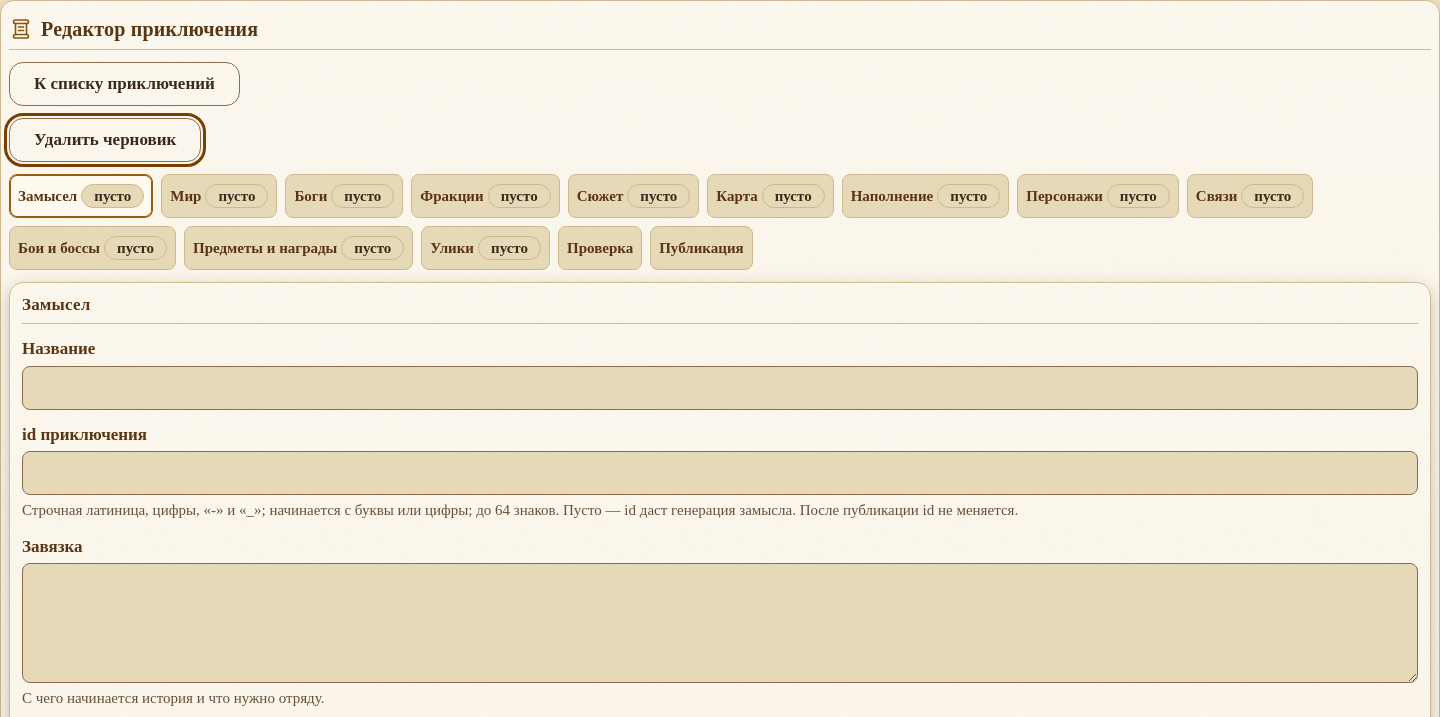
удаление черновика › «Отмена» в вопросе «Удалить черновик?» возвращает фокус на «Удалить черновик»
This screenshot has width=1440, height=717.
Step 1. Click the button "Удалить черновик" → [105, 140], box top-left (9, 118), bottom-right (201, 162)
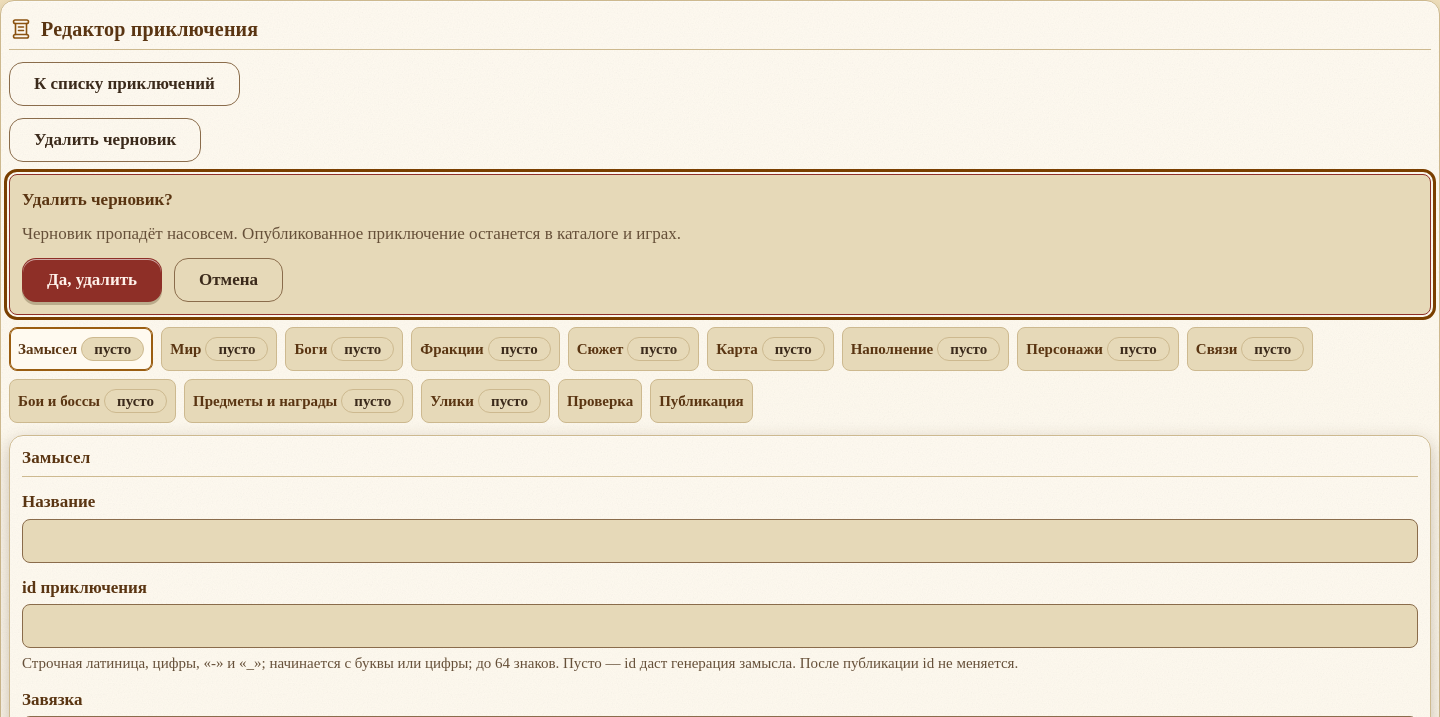
Step 2. Click the button "Отмена" → [228, 280], box top-left (174, 258), bottom-right (283, 302)
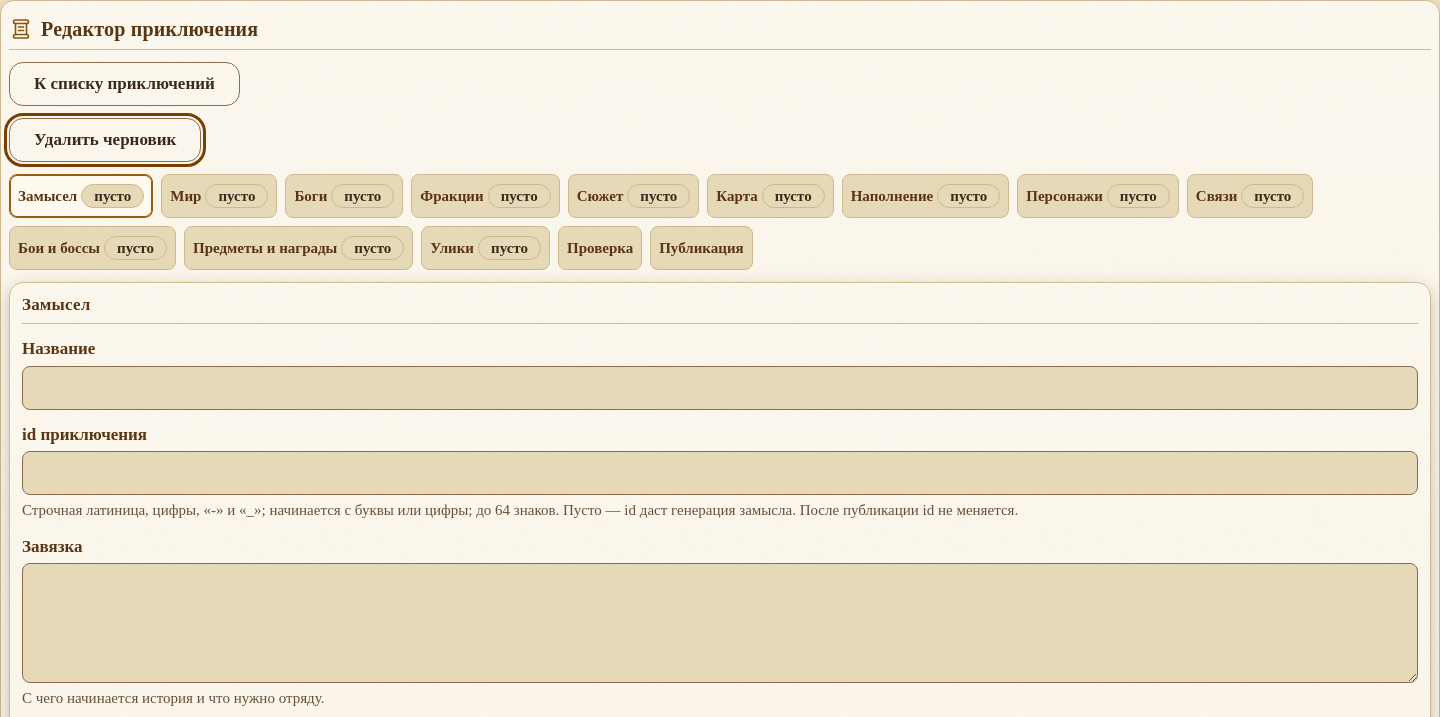
Result: the dialog is gone
